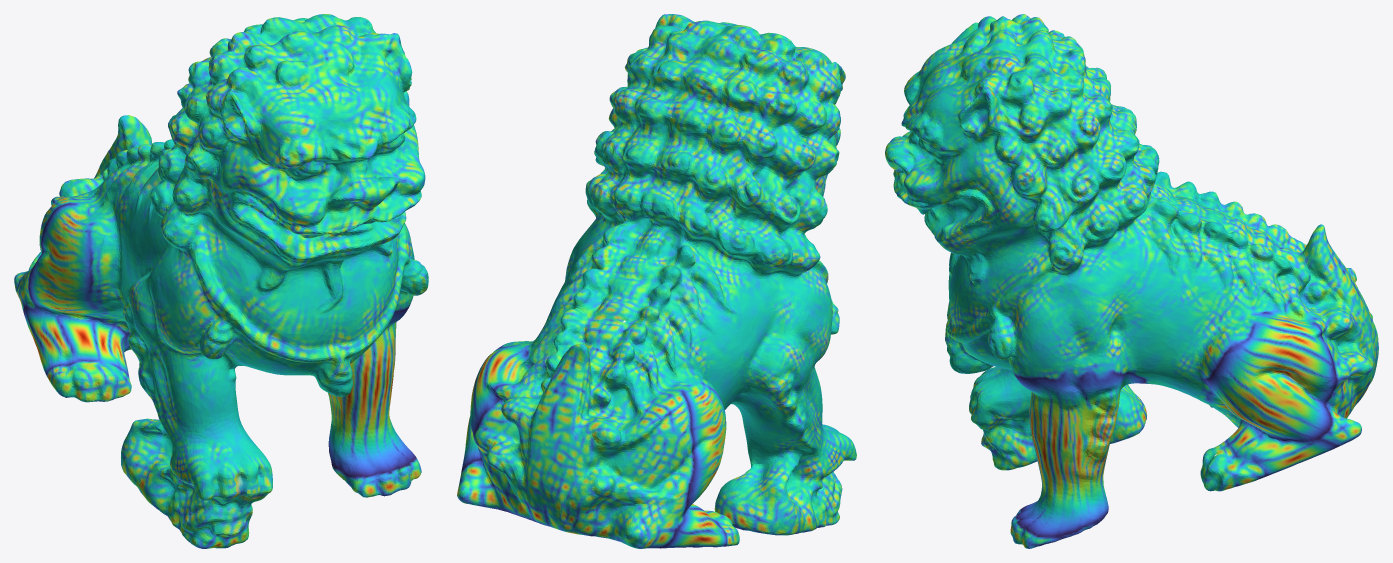
The model's file is gen1.glb.
3 views of the same model, side by side, from view 1: azimuth 30°, elevation 25°; view 2: azimuth 150°, elevation 25°; view 3: azimuth 270°, elevation 25° (orthographic). The views are drawn at different scales.
Parts seen in each view (by area): view 1: Node; view 2: Node; view 3: Node.
Part boxes in pixels (<box>): Node: <box>14,14,428,548</box>; Node: <box>457,14,856,548</box>; Node: <box>885,14,1378,548</box>.
Size of the model in its own units: 61.63 by 113 by 109.
1 material, 1 textured.
